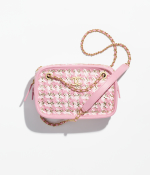channel: (26, 54, 131, 129), (70, 72, 90, 88), (46, 71, 65, 86)
